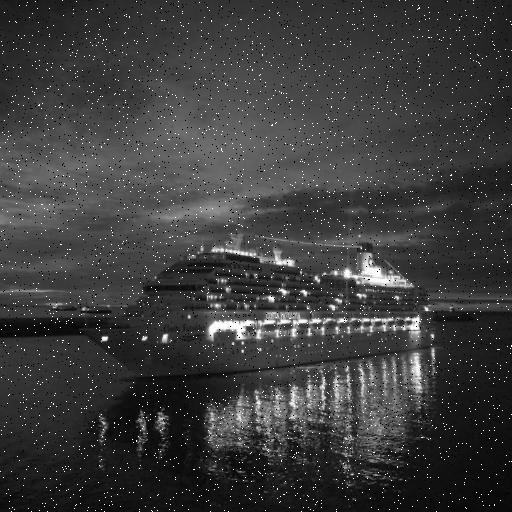cruises: (77, 229, 441, 387)
